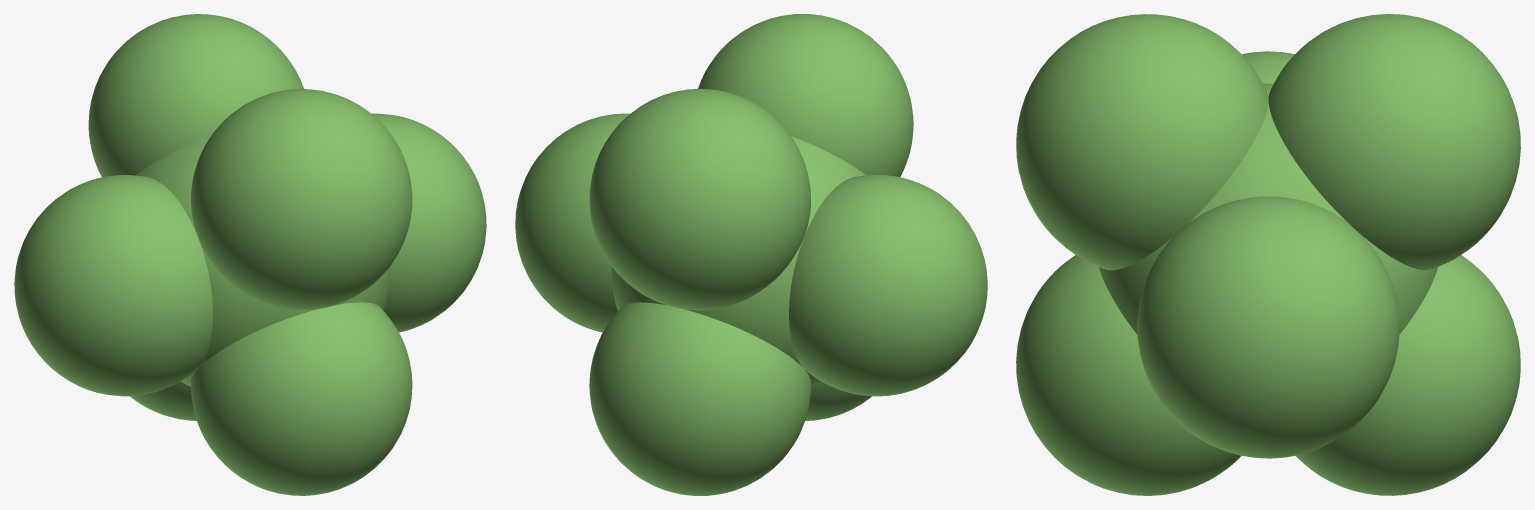
The model's file is SUPRESSOR FINAL.obj.
The picture shows the model from 3 angles, left to right: view 1: azimuth 30°, elevation 25°; view 2: azimuth 150°, elevation 25°; view 3: azimuth 270°, elevation 25°; orthographic projection. The views are drawn at different scales.
Visible parts, largest first — view 1: mesh6, mesh5, mesh10, mesh1, mesh7, mesh13, mesh4, mesh8, mesh12; view 2: mesh1, mesh5, mesh8, mesh6, mesh7, mesh2, mesh4, mesh10, mesh0; view 3: mesh7, mesh1, mesh6, mesh10, mesh8, mesh3, mesh0, mesh12, mesh5.
Part boxes in pixels (<box>): mesh6: <box>191,89,412,310</box>; mesh5: <box>14,175,212,396</box>; mesh10: <box>191,302,412,495</box>; mesh1: <box>88,14,303,177</box>; mesh7: <box>372,113,486,332</box>; mesh13: <box>199,240,316,367</box>; mesh4: <box>136,136,210,234</box>; mesh8: <box>130,381,196,420</box>; mesh12: <box>335,266,390,310</box>; mesh1: <box>589,88,810,310</box>; mesh5: <box>789,174,987,396</box>; mesh8: <box>589,302,810,495</box>; mesh6: <box>698,14,913,176</box>; mesh7: <box>515,113,629,332</box>; mesh2: <box>685,240,802,367</box>; mesh4: <box>791,136,865,235</box>; mesh10: <box>805,381,871,420</box>; mesh0: <box>611,266,667,310</box>; mesh7: <box>1137,196,1399,458</box>; mesh1: <box>1268,14,1520,270</box>; mesh6: <box>1016,14,1268,270</box>; mesh10: <box>1016,255,1241,495</box>; mesh8: <box>1295,255,1520,495</box>; mesh3: <box>1187,100,1350,225</box>; mesh0: <box>1360,234,1437,334</box>; mesh12: <box>1099,236,1173,334</box>; mesh5: <box>1242,51,1294,83</box>.
Size of the model in its own units: 0.1344 by 0.1122 by 0.1122.
